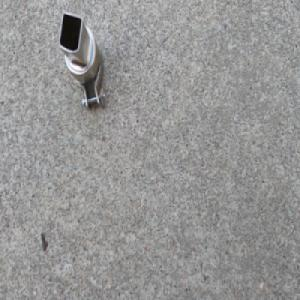MetalPart: (57, 9, 108, 114)
